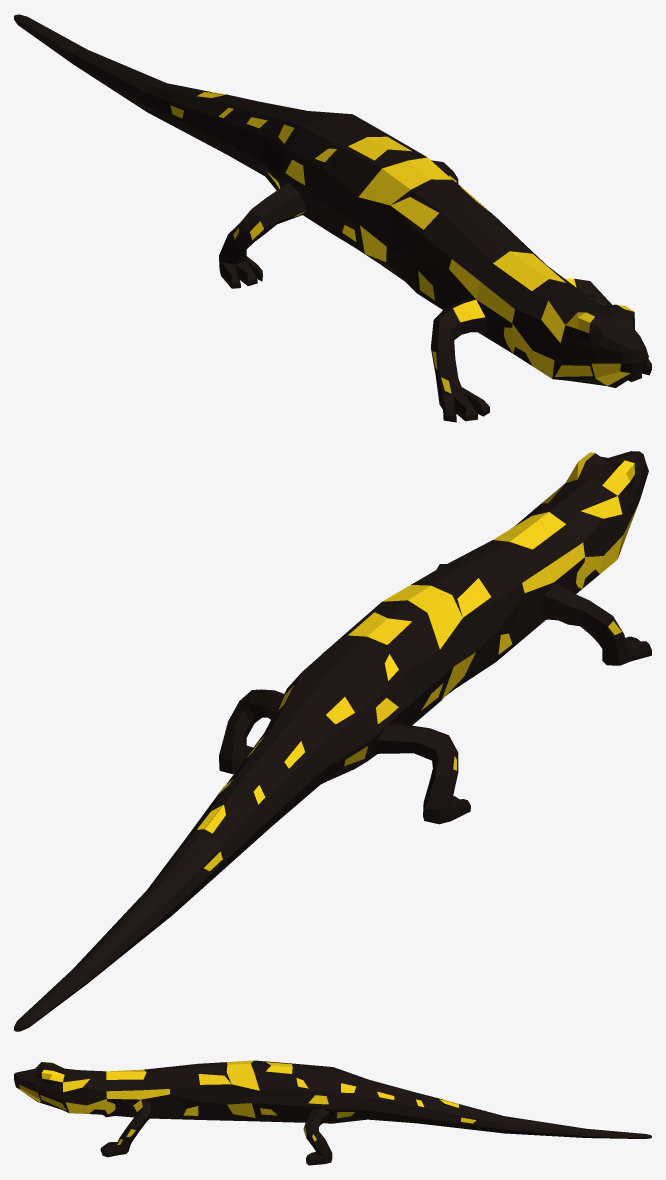
File: lizard.fbx
The picture shows the model from 3 angles, top to bottom: view 1: azimuth 30°, elevation 25°; view 2: azimuth 150°, elevation 25°; view 3: azimuth 270°, elevation 25°; orthographic projection. The views are drawn at different scales.
Visible parts, largest first — view 1: 15lizardFinal; view 2: 15lizardFinal; view 3: 15lizardFinal.
Part boxes in pixels (box(x1,y1,x2,y2)): 15lizardFinal: box(14, 14, 651, 422); 15lizardFinal: box(14, 451, 651, 1031); 15lizardFinal: box(14, 1060, 651, 1165).
Bounding box in the file's own units: 0.2229 × 0.1284 × 1.
Materials: 1 (1 with a texture image).
